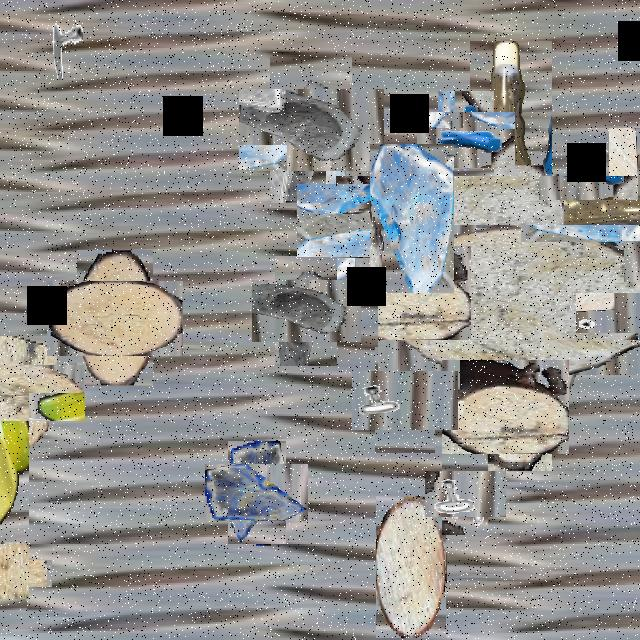glass: (254, 73, 368, 187), (370, 144, 454, 293), (312, 169, 414, 272), (263, 268, 349, 354), (217, 452, 297, 533)
metal: (364, 358, 446, 442), (427, 102, 505, 179), (433, 462, 497, 526), (582, 285, 638, 341), (41, 4, 83, 78), (0, 547, 39, 600)
plastic: (402, 108, 620, 326), (0, 393, 29, 599)
wood: (407, 196, 617, 406), (450, 352, 560, 462), (62, 265, 168, 371), (376, 496, 446, 638), (569, 167, 640, 276), (0, 350, 71, 435)
